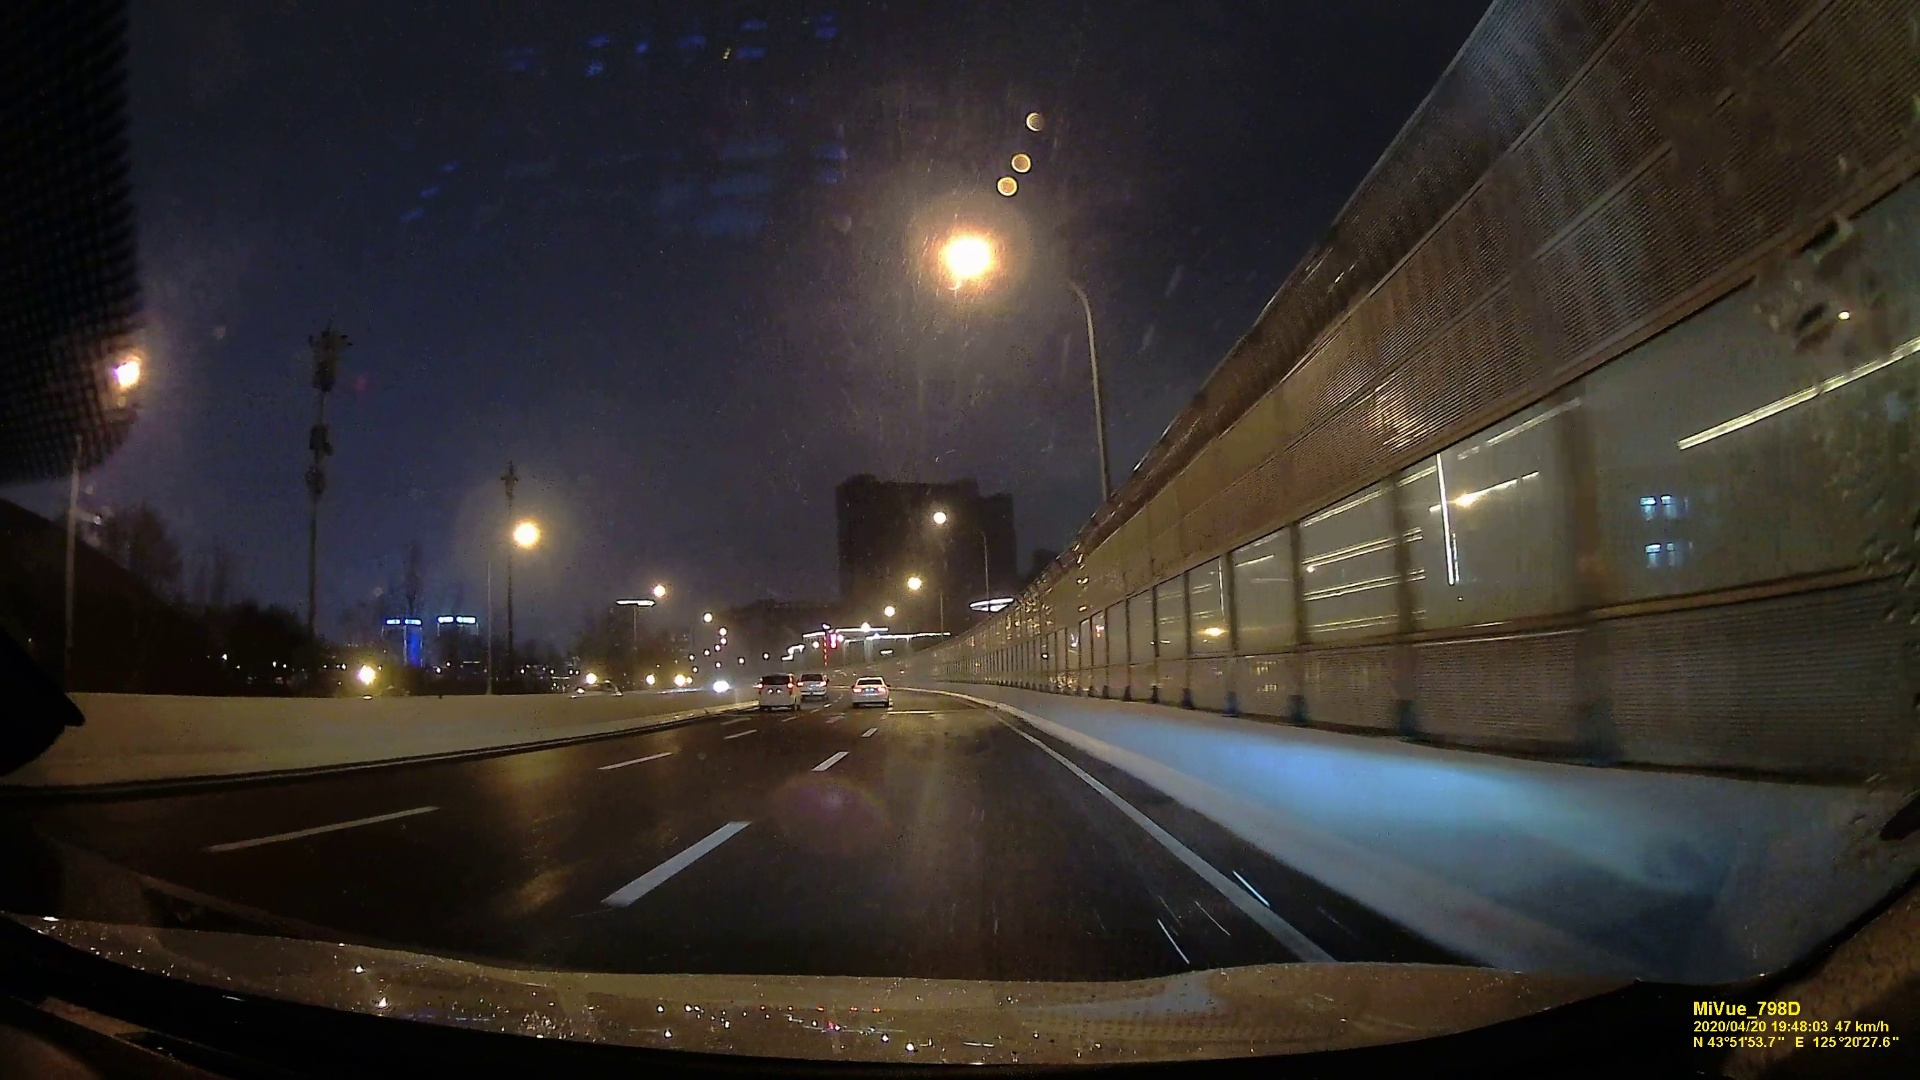minibus: (756, 673, 800, 709)
vehicle: (851, 675, 887, 707), (799, 673, 828, 696)
